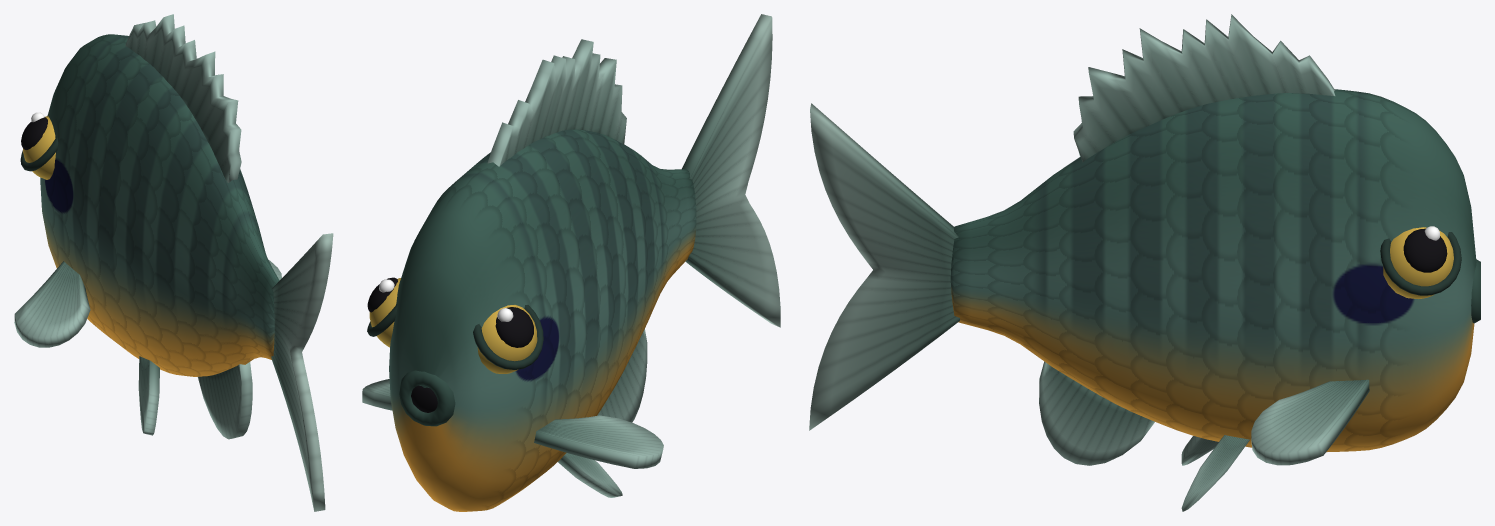
The model's file is Bluegill.fbx.
The picture shows the model from 3 angles, left to right: view 1: azimuth 30°, elevation 25°; view 2: azimuth 150°, elevation 25°; view 3: azimuth 270°, elevation 25°; orthographic projection. The views are drawn at different scales.
Parts seen in each view (by area): view 1: Bluegill; view 2: Bluegill; view 3: Bluegill.
Part boxes in pixels (<box>): Bluegill: <box>14,14,333,511</box>; Bluegill: <box>362,14,780,511</box>; Bluegill: <box>809,14,1480,511</box>.
Bounding box in the file's own units: 113 × 168 × 217.
1 material, 1 textured.
